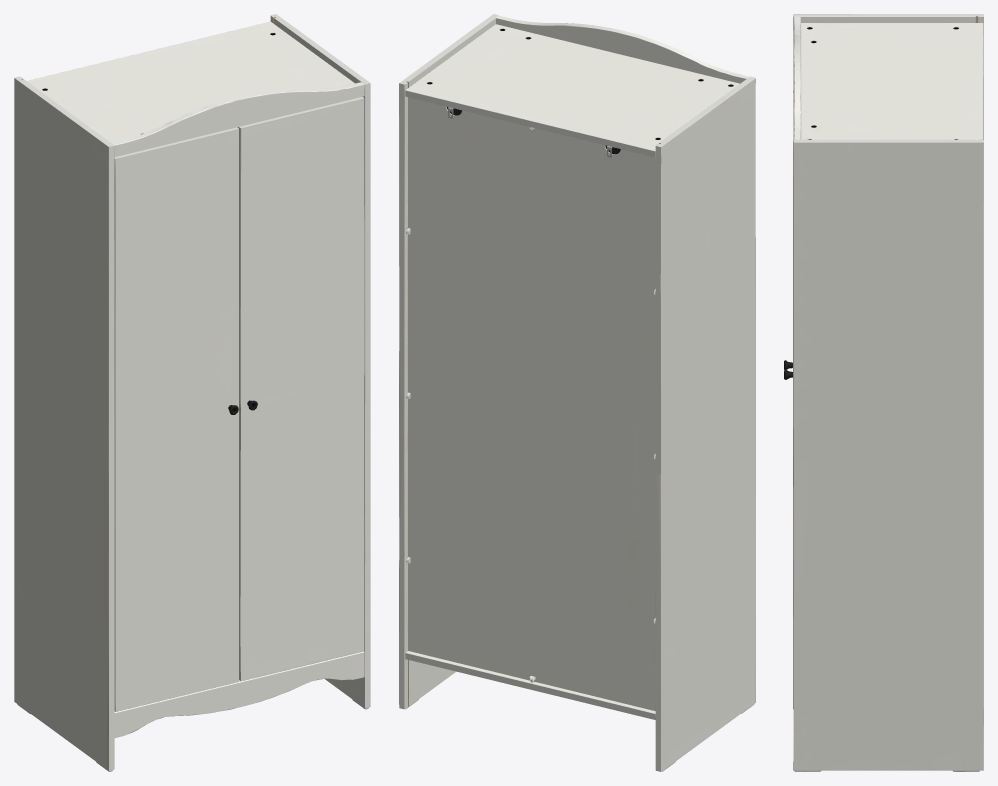
The model's file is 10460888-mini.glb.
3 renders of one model, left to right at view 1: azimuth 30°, elevation 25°; view 2: azimuth 150°, elevation 25°; view 3: azimuth 270°, elevation 25°, orthographic.
Visible parts, largest first — view 1: 10460888-SMÃƒâ€¦GÃƒâ€“RA001; view 2: 10460888-SMÃƒâ€¦GÃƒâ€“RA001; view 3: 10460888-SMÃƒâ€¦GÃƒâ€“RA001.
Boxes of the visible parts, box(x1,y1,x2,y2) form: 10460888-SMÃƒâ€¦GÃƒâ€“RA001: box(14, 14, 370, 771); 10460888-SMÃƒâ€¦GÃƒâ€“RA001: box(399, 14, 755, 771); 10460888-SMÃƒâ€¦GÃƒâ€“RA001: box(784, 14, 983, 771).
Size of the model in its own units: 0.799 by 1.87 by 0.5248.
Materials: 1 (1 with a texture image).
